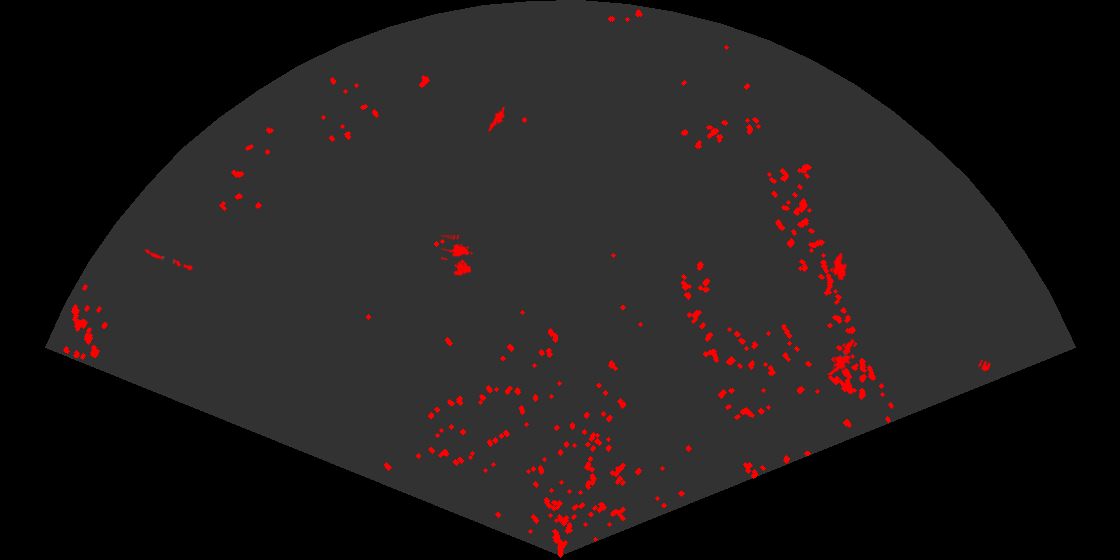AUV: (831, 251, 849, 282)
ball: (977, 358, 992, 373)
cage: (441, 235, 475, 277)
chain: (139, 246, 194, 272)
frogman: (825, 336, 860, 375), (487, 107, 506, 134)
